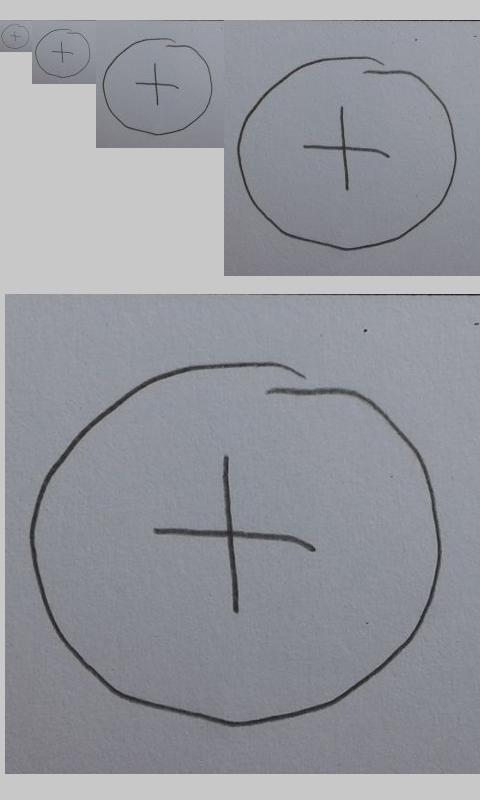button: (25, 358, 445, 730), (235, 54, 459, 252), (102, 37, 214, 136), (34, 28, 91, 79), (1, 23, 30, 50)
